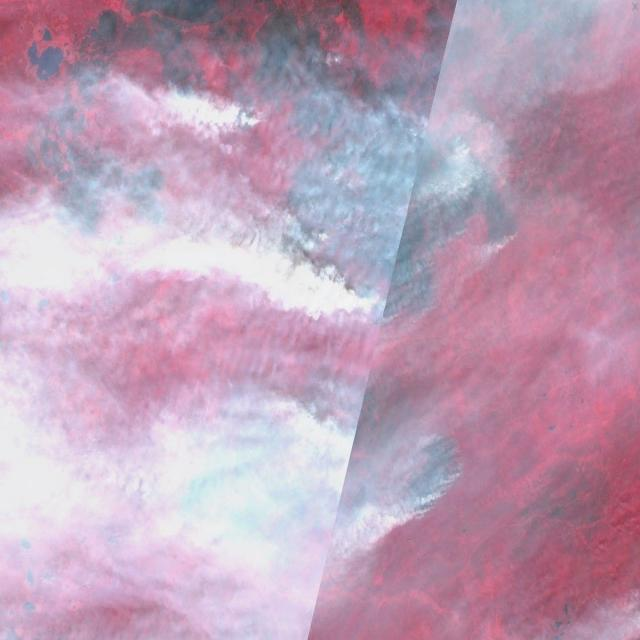fire: (267, 104, 525, 319), (379, 412, 469, 524), (332, 52, 352, 75)
